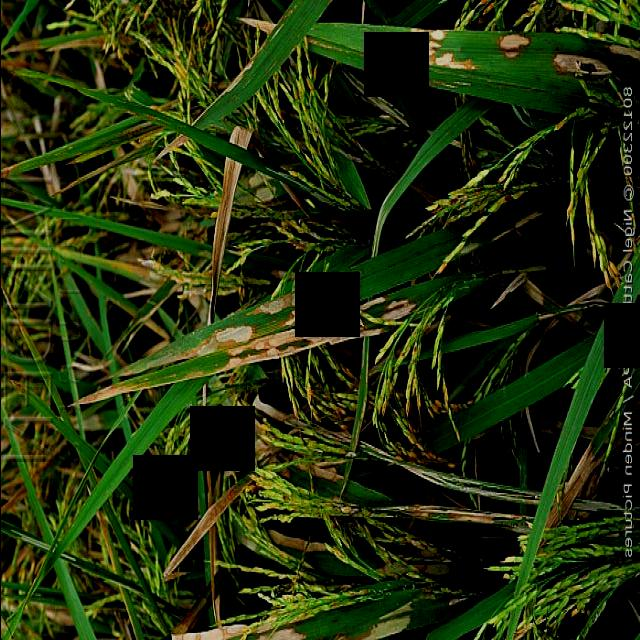Bacterial_Leaf_Blight: (66, 292, 414, 410), (194, 1, 301, 130), (402, 28, 640, 76), (162, 476, 250, 583), (170, 602, 414, 640), (253, 276, 351, 332), (523, 280, 596, 334), (242, 527, 326, 571), (491, 202, 545, 246), (402, 505, 498, 525), (199, 321, 252, 356), (292, 456, 344, 484), (407, 548, 452, 576), (246, 170, 274, 202)
